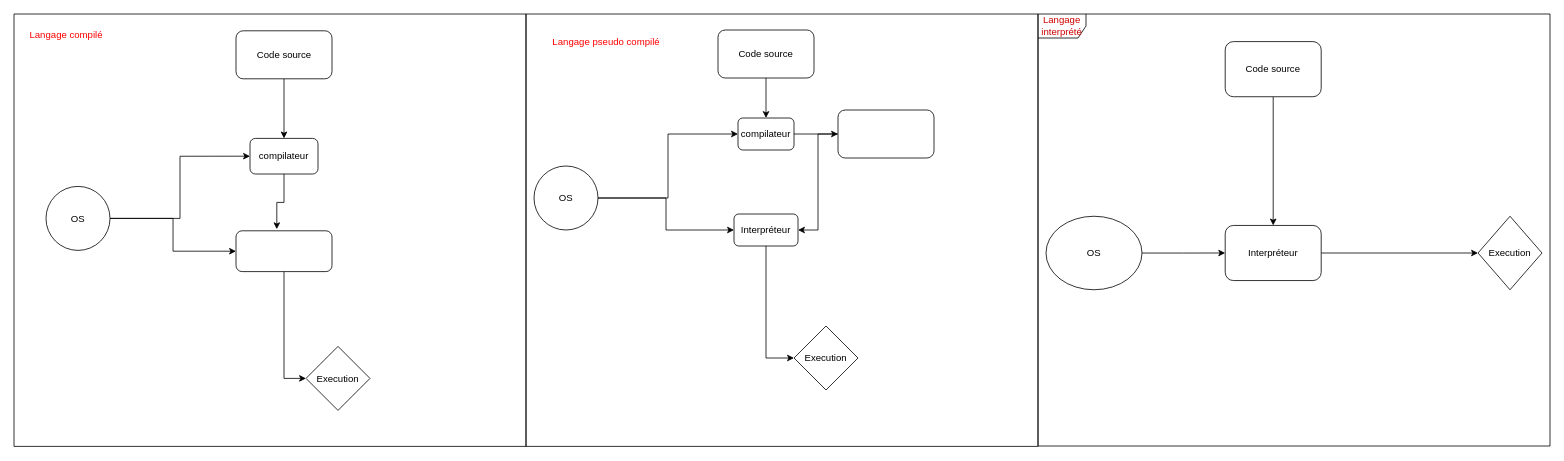
This 1564x461 diagram has some shape labels left out. Here are the shapes that lost their labels. From the top down, the centre of each, then its label:
pixel 885 133: bytecode
pixel 283 251: binaire executable
